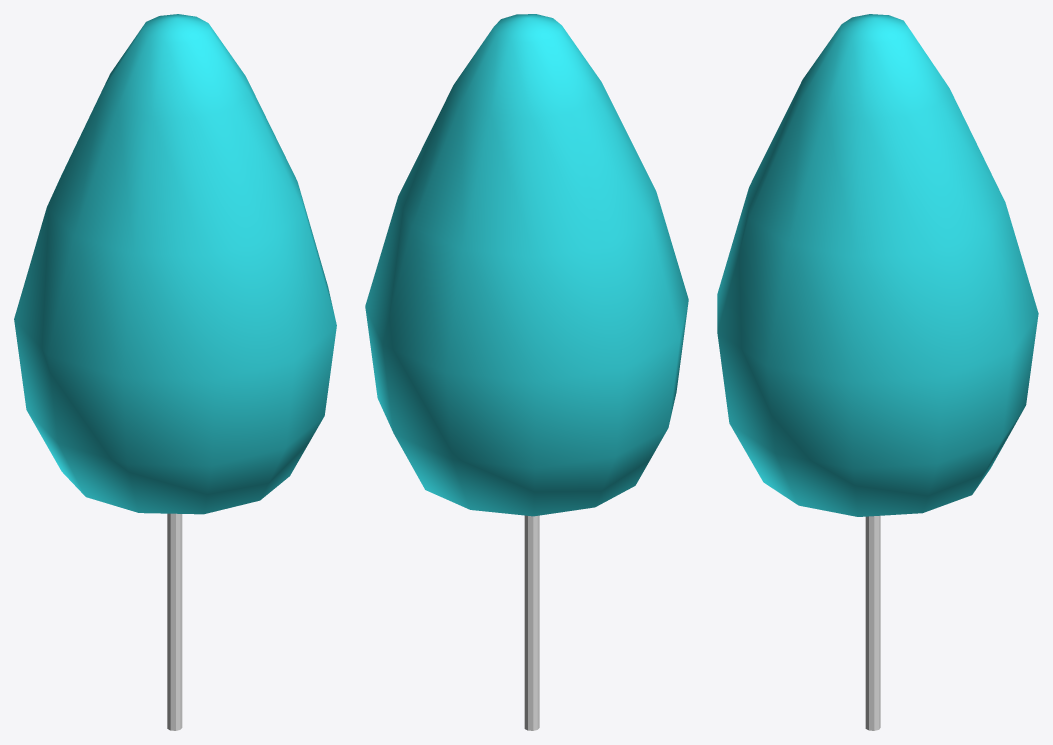
File: 020_Candy_Tree_011.fbx
3 renders of one model, left to right at view 1: azimuth 30°, elevation 25°; view 2: azimuth 150°, elevation 25°; view 3: azimuth 270°, elevation 25°, orthographic.
Visible parts, largest first — view 1: Sphere.066, Cylinder.052; view 2: Sphere.066, Cylinder.052; view 3: Sphere.066, Cylinder.052.
Boxes of the visible parts, x1,y1,x2,y2 form: Sphere.066: (14, 14, 336, 514); Cylinder.052: (167, 513, 182, 730); Sphere.066: (365, 14, 688, 516); Cylinder.052: (524, 515, 539, 730); Sphere.066: (717, 14, 1038, 516); Cylinder.052: (865, 515, 880, 730).
Bounding box in the file's own units: 119 × 287 × 118.
